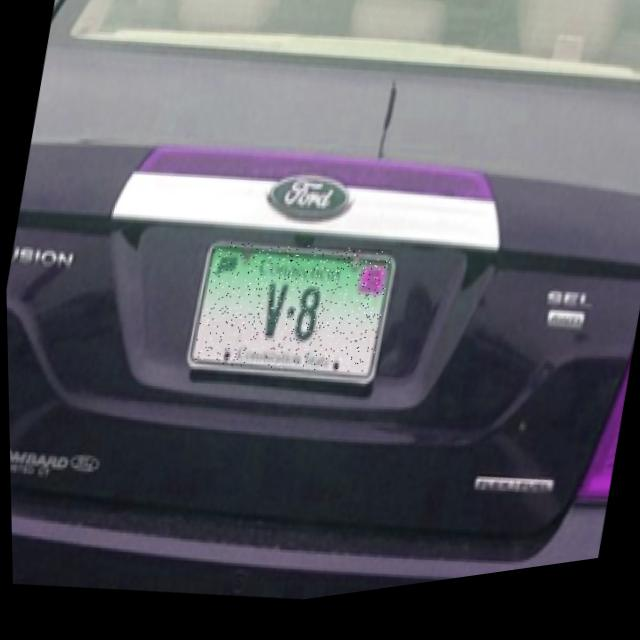license_plate: (189, 227, 392, 404)
